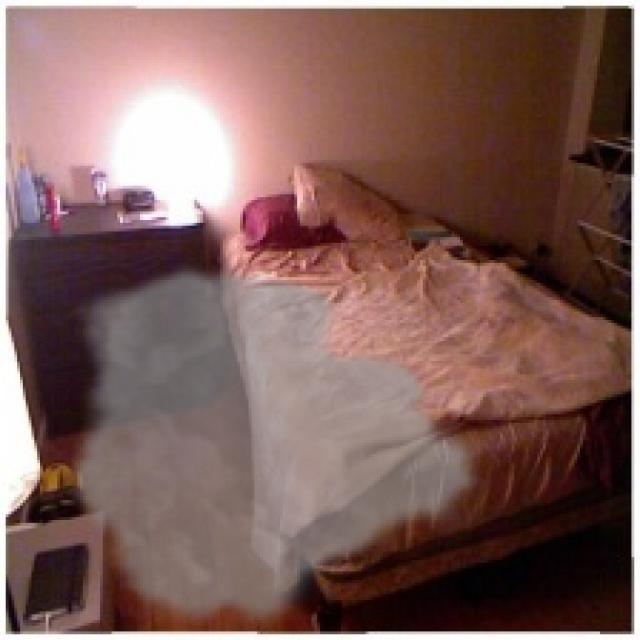smoke: (66, 260, 488, 634)
